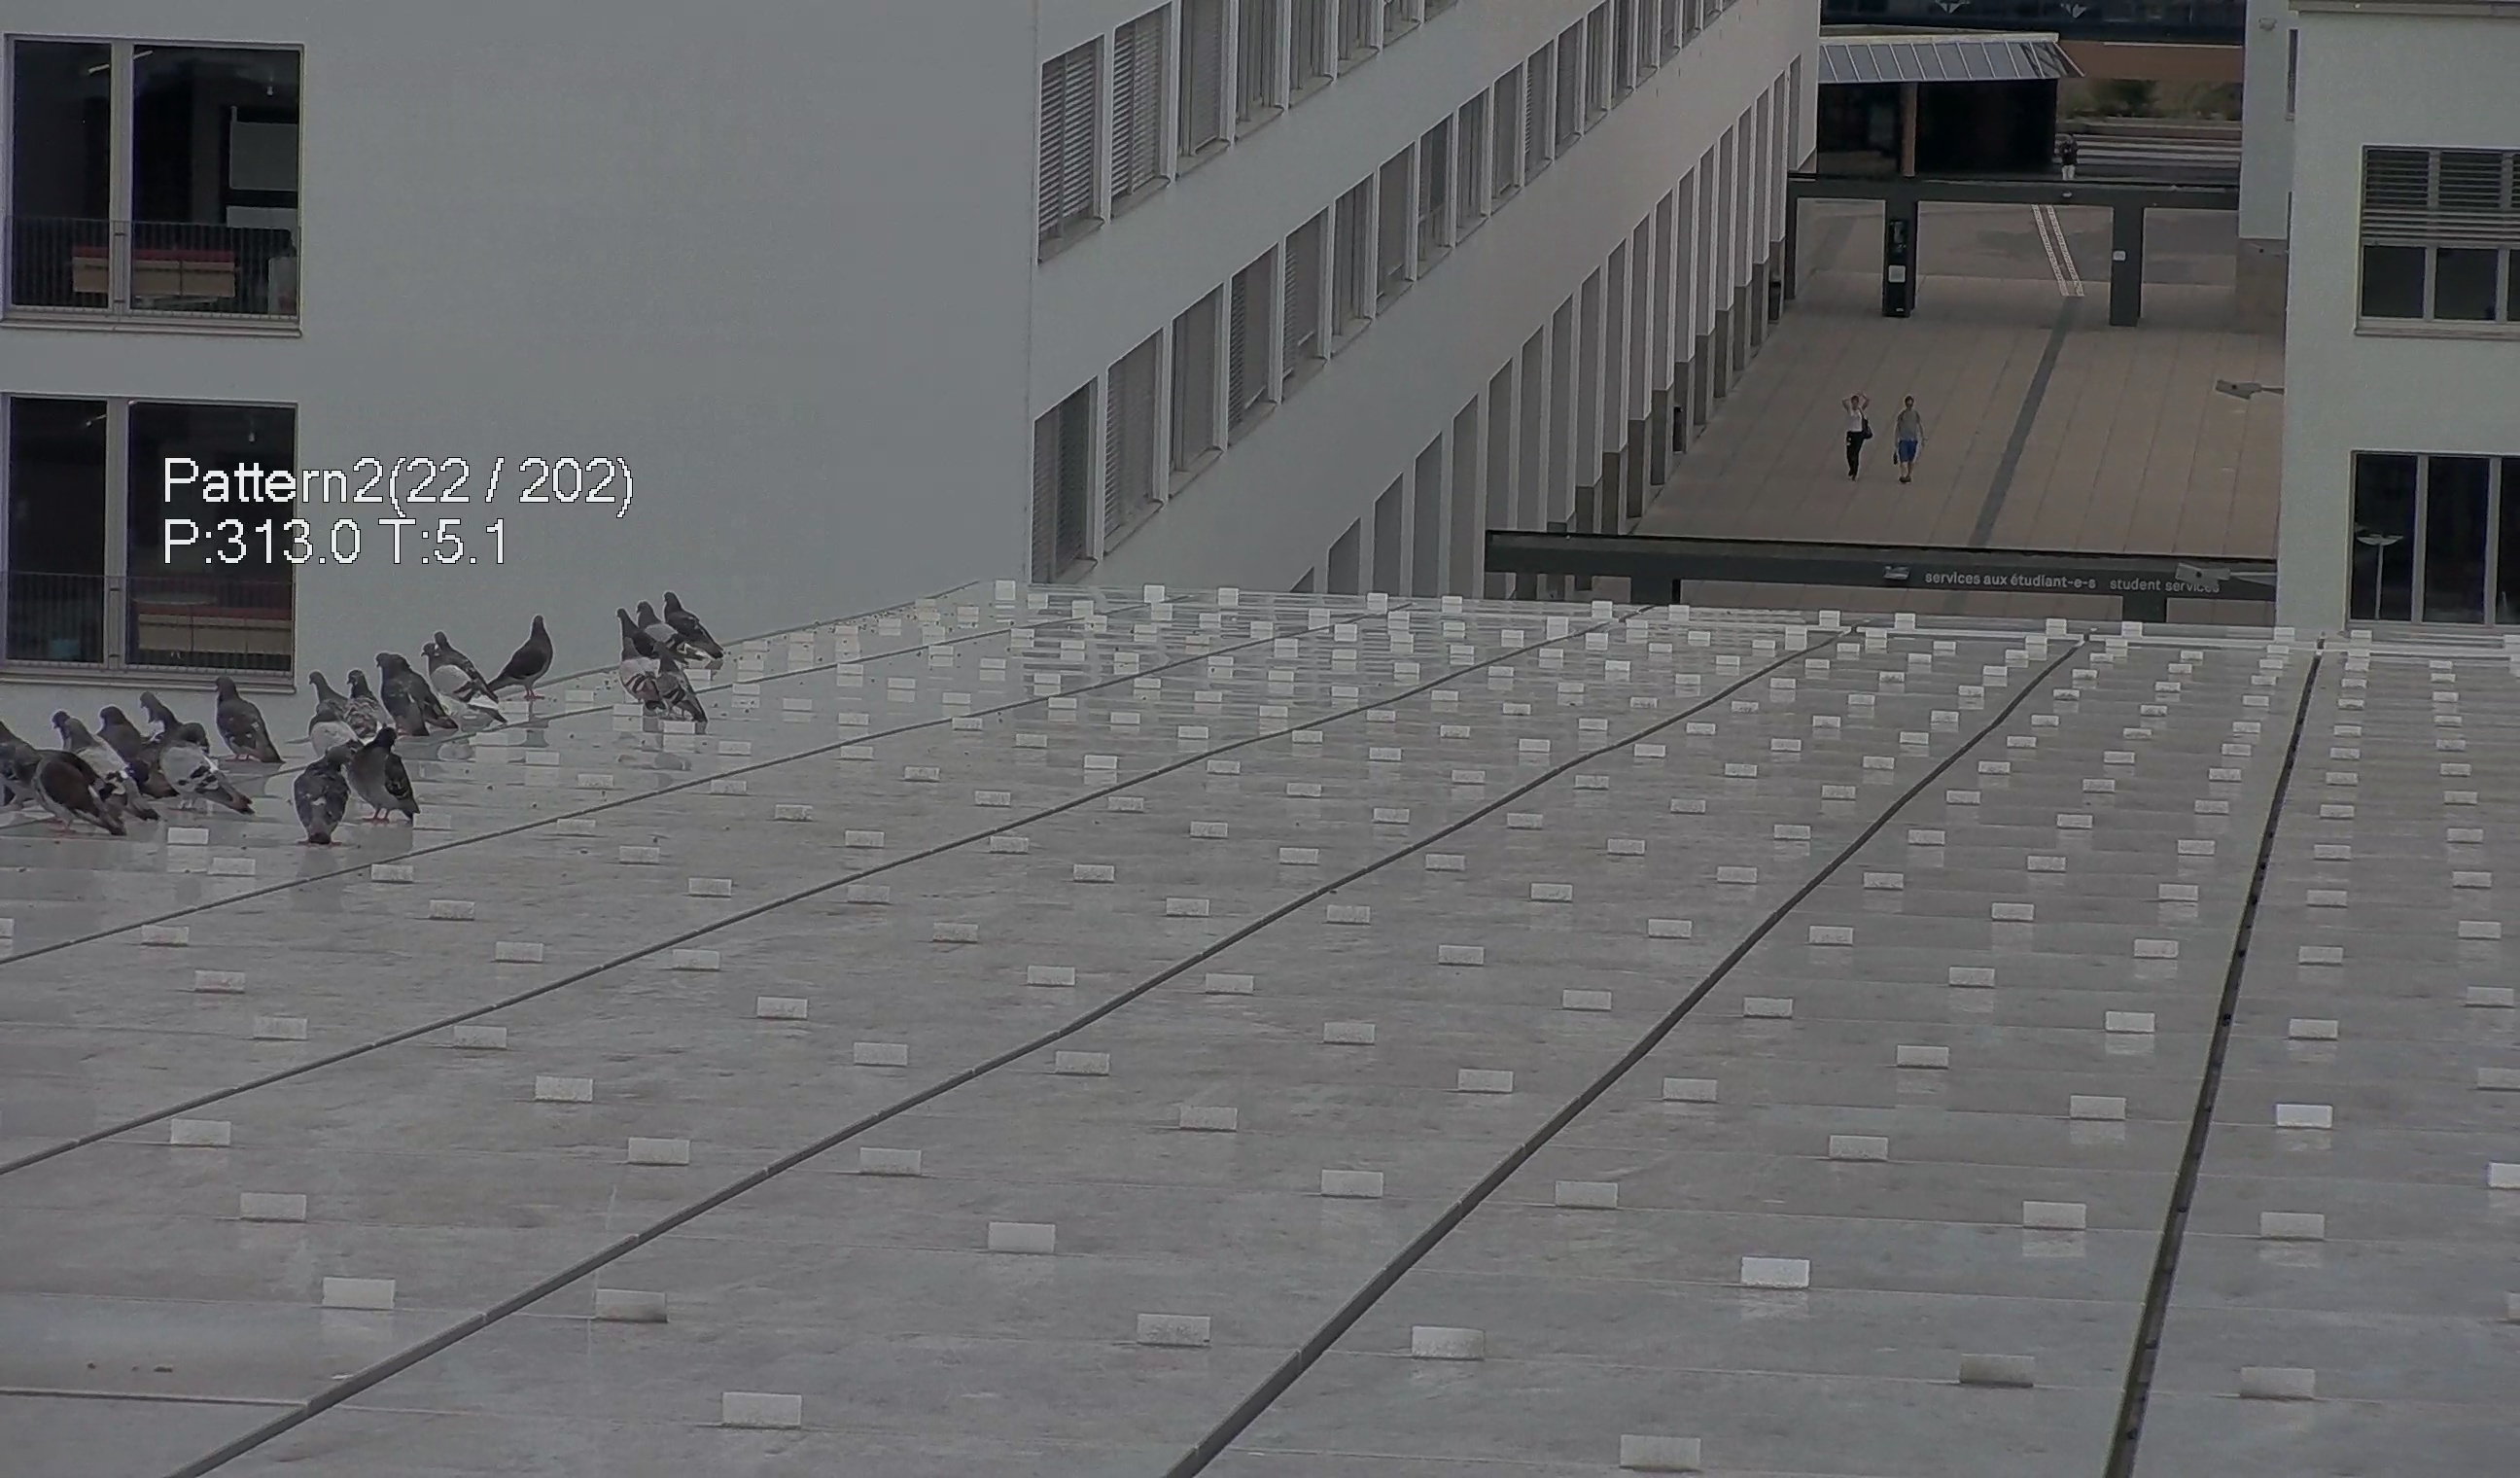Pigeon: (18, 714, 125, 843), (434, 602, 540, 721), (341, 720, 433, 825), (155, 728, 253, 820), (281, 743, 362, 846), (373, 653, 455, 746), (473, 602, 547, 706), (621, 642, 705, 727), (213, 662, 281, 762), (339, 662, 397, 744), (635, 600, 705, 658), (39, 707, 118, 758), (610, 605, 684, 658), (306, 665, 353, 709)
